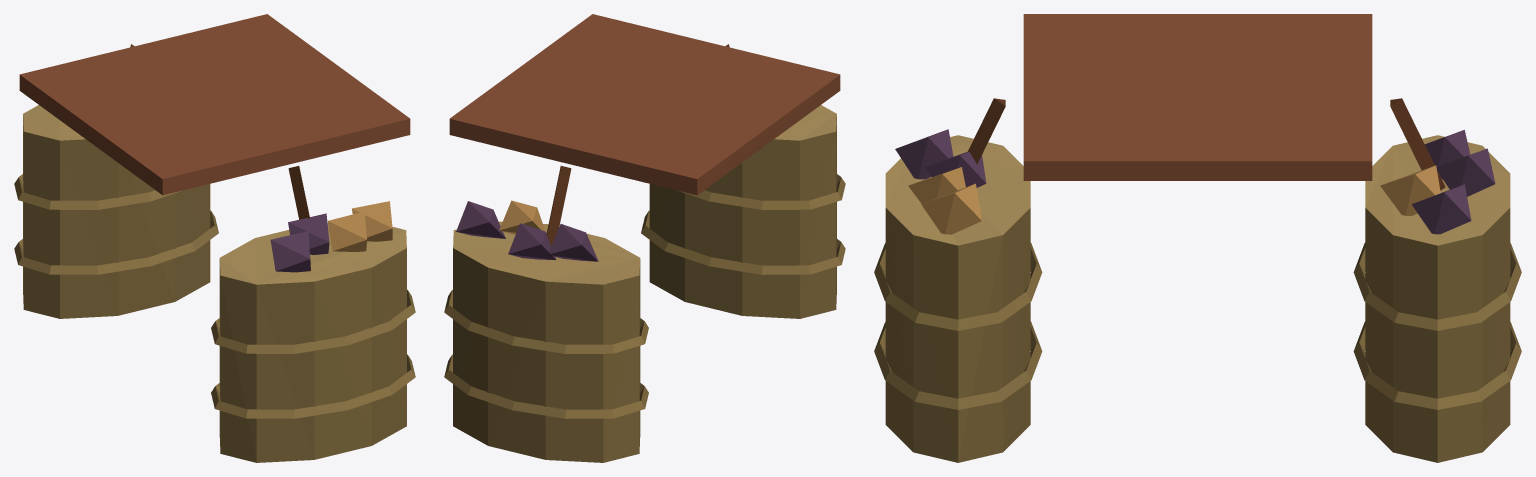
Rendered from gd_donkey_baskets.glb.
3 renders of one model, left to right at view 1: azimuth 30°, elevation 25°; view 2: azimuth 150°, elevation 25°; view 3: azimuth 270°, elevation 25°, orthographic. The views are drawn at different scales.
Visible parts, largest first — view 1: base; view 2: base; view 3: base.
Part boxes in pixels (box(x1,y1,x2,y2)): base: box(14, 14, 415, 462); base: box(444, 14, 845, 462); base: box(874, 14, 1521, 462).
Size of the model in its own units: 0.16 by 0.162 by 0.2972.
